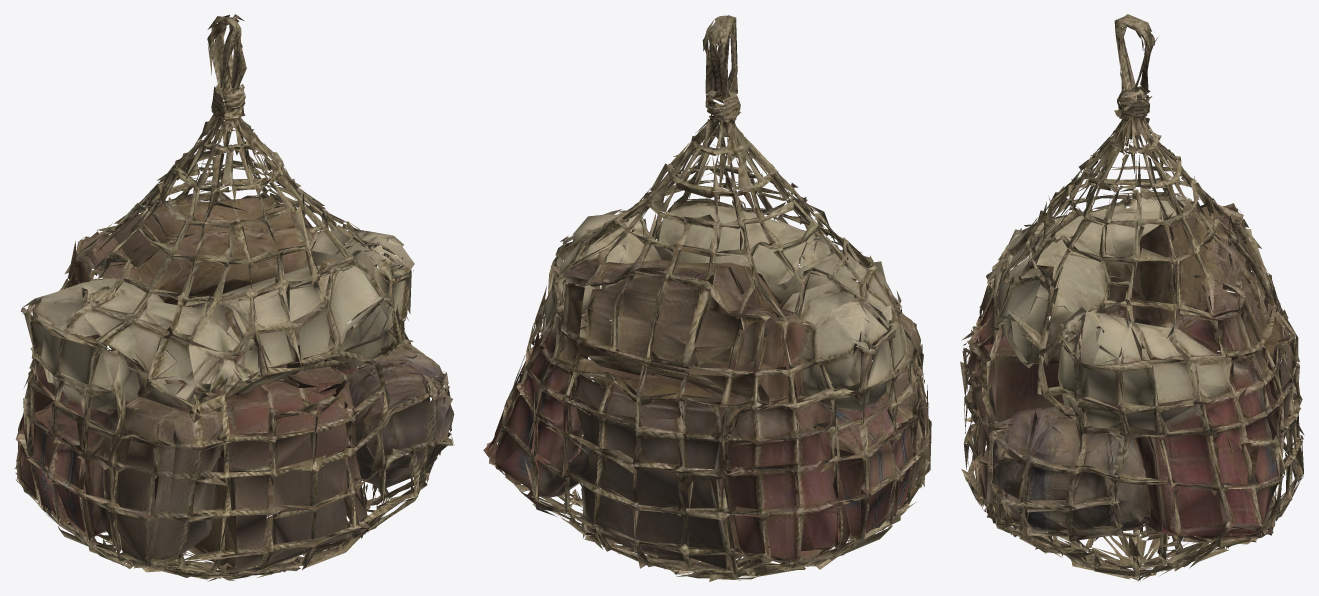
File: cargo-net-bundle-interior-lod.glb
The picture shows the model from 3 angles, left to right: view 1: azimuth 30°, elevation 25°; view 2: azimuth 150°, elevation 25°; view 3: azimuth 270°, elevation 25°; orthographic projection. The views are drawn at different scales.
Parts seen in each view (by area): view 1: Mesh_0; view 2: Mesh_0; view 3: Mesh_0.
Part boxes in pixels (x1=…): Mesh_0: x1=14, y1=14, x2=454, y2=581; Mesh_0: x1=483, y1=15, x2=931, y2=581; Mesh_0: x1=960, y1=14, x2=1304, y2=580.
Bounding box in the file's own units: 1.28 × 1.9 × 1.07.
Materials: 1 (1 with a texture image).
